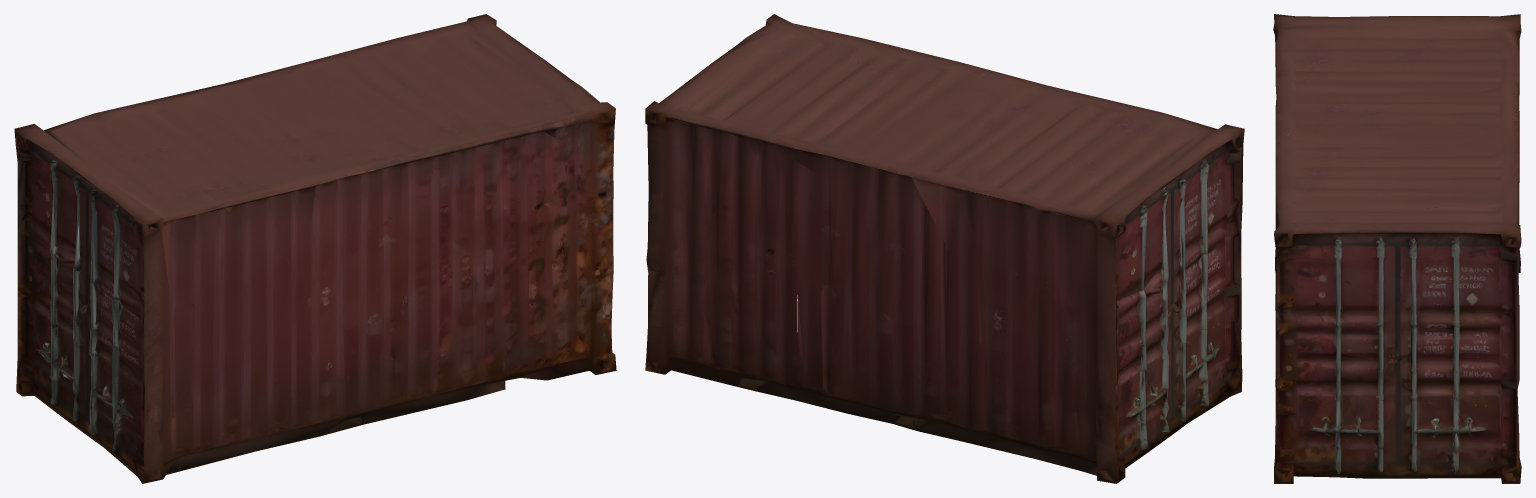
Rendered from shipping_container.glb.
3 views of the same model, side by side, from view 1: azimuth 30°, elevation 25°; view 2: azimuth 150°, elevation 25°; view 3: azimuth 270°, elevation 25° (orthographic). The views are drawn at different scales.
Parts seen in each view (by area): view 1: tripo_node_ebd6bf72-9630-4e58-8d3d-dbe509a9a164; view 2: tripo_node_ebd6bf72-9630-4e58-8d3d-dbe509a9a164; view 3: tripo_node_ebd6bf72-9630-4e58-8d3d-dbe509a9a164.
Part boxes in pixels (x1,y1,x2,y2): tripo_node_ebd6bf72-9630-4e58-8d3d-dbe509a9a164: (14,14,616,483); tripo_node_ebd6bf72-9630-4e58-8d3d-dbe509a9a164: (645,14,1244,483); tripo_node_ebd6bf72-9630-4e58-8d3d-dbe509a9a164: (1273,14,1521,483).
Size of the model in its own units: 1 by 0.5309 by 0.4759.
Materials: 1 (1 with a texture image).
